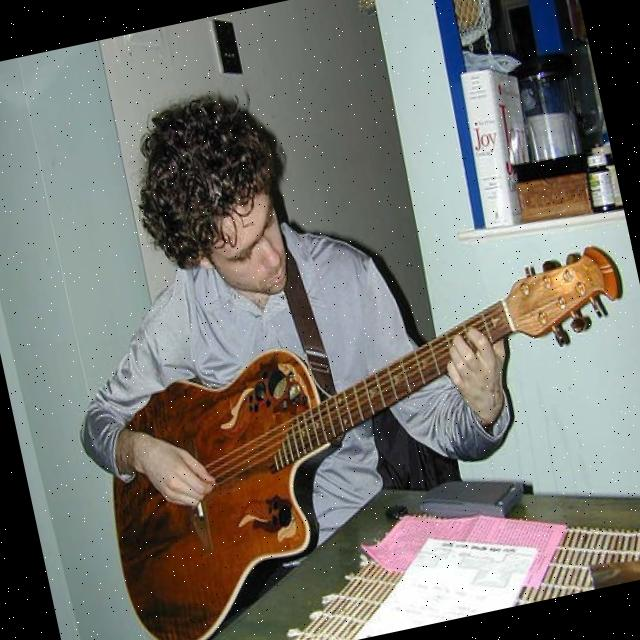guitar: (77, 241, 640, 640)
